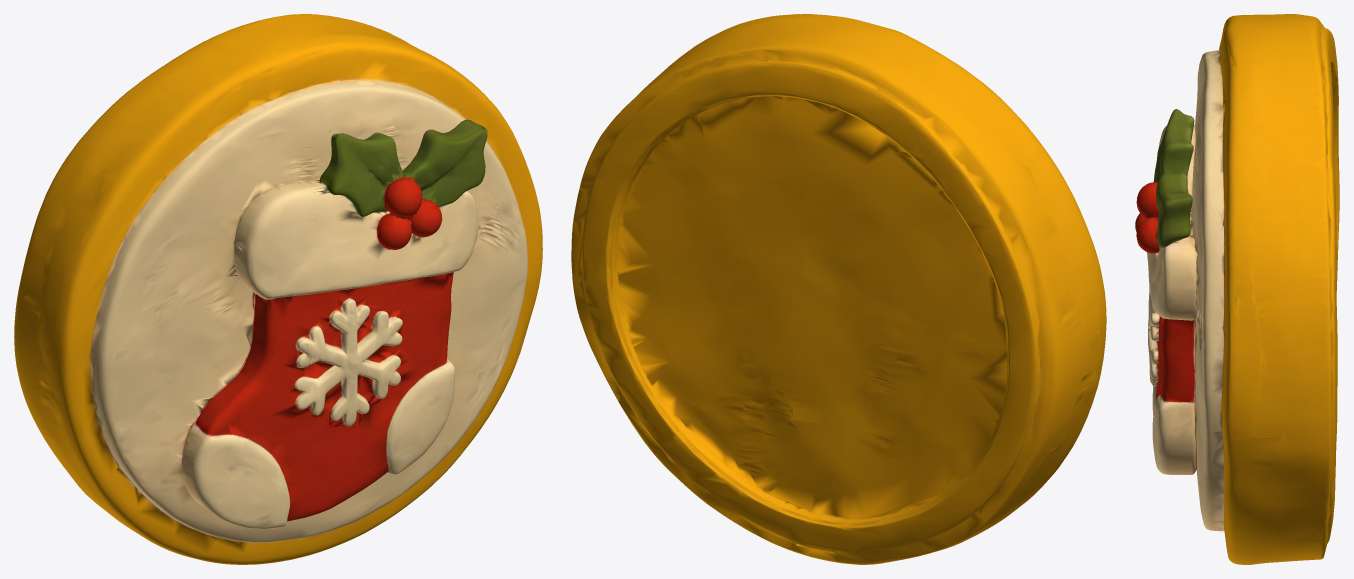
File: vending-stocking-button-web.glb
The picture shows the model from 3 angles, left to right: view 1: azimuth 30°, elevation 25°; view 2: azimuth 150°, elevation 25°; view 3: azimuth 270°, elevation 25°; orthographic projection. The views are drawn at different scales.
Parts seen in each view (by area): view 1: tripo_node_edc38e3c-8a3d-464b-b04a-9878b7f4cc57; view 2: tripo_node_edc38e3c-8a3d-464b-b04a-9878b7f4cc57; view 3: tripo_node_edc38e3c-8a3d-464b-b04a-9878b7f4cc57.
Boxes of the visible parts, x1,y1,x2,y2 form: tripo_node_edc38e3c-8a3d-464b-b04a-9878b7f4cc57: [14, 14, 542, 564]; tripo_node_edc38e3c-8a3d-464b-b04a-9878b7f4cc57: [571, 14, 1106, 564]; tripo_node_edc38e3c-8a3d-464b-b04a-9878b7f4cc57: [1135, 14, 1339, 564].
Bounding box in the file's own units: 0.9758 × 0.9797 × 0.3623.
Materials: 1 (1 with a texture image).
